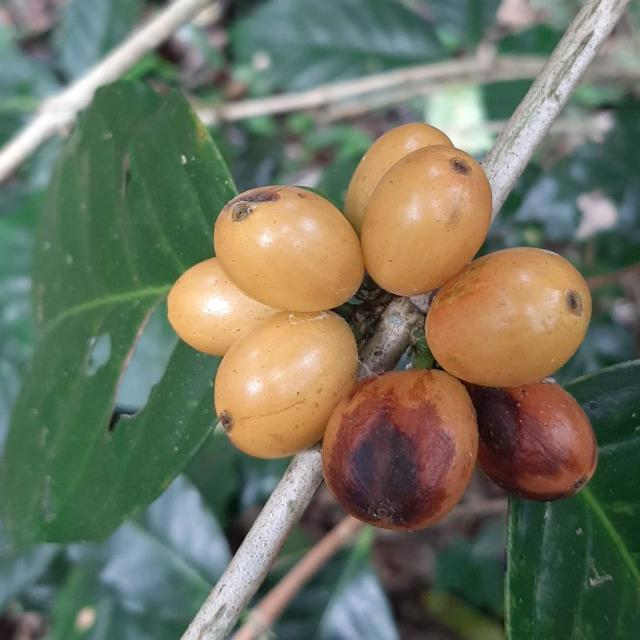red: (322, 370, 479, 532), (426, 247, 593, 387), (214, 311, 358, 459), (361, 144, 493, 296), (213, 185, 364, 312), (467, 380, 599, 502), (344, 123, 453, 234), (168, 258, 280, 356)
